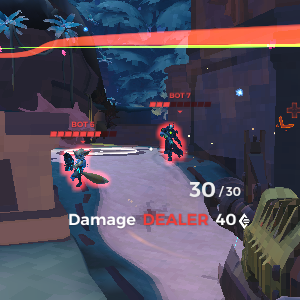model: (63, 145, 102, 203), (157, 118, 185, 164)
